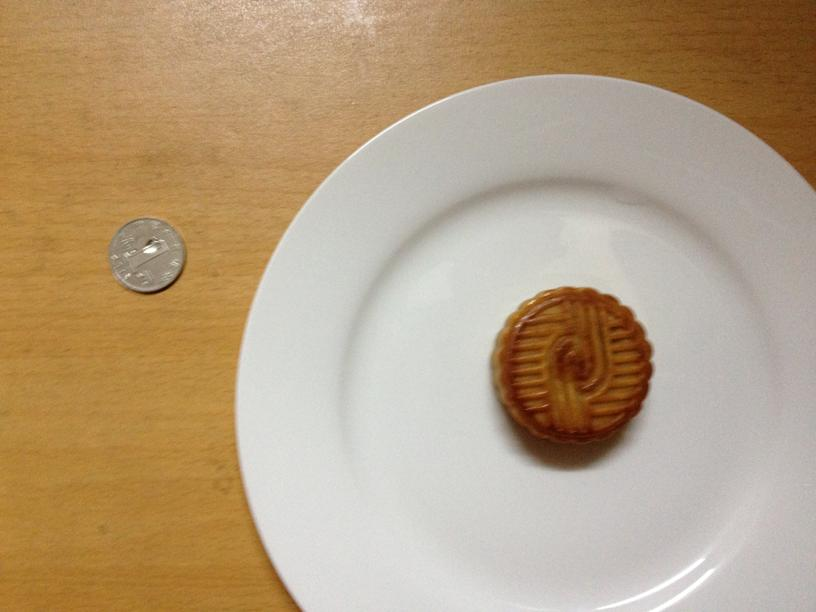coin: (104, 215, 188, 293)
mooncake: (496, 289, 650, 440)
